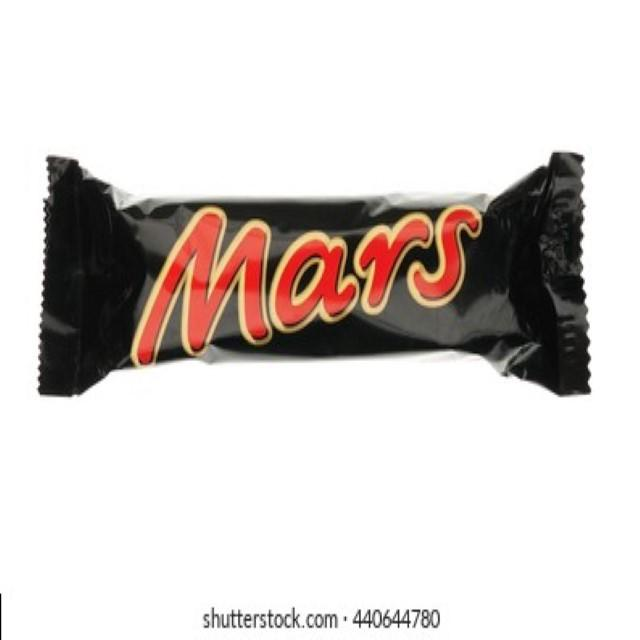mars_chocolate: (28, 145, 595, 422)
